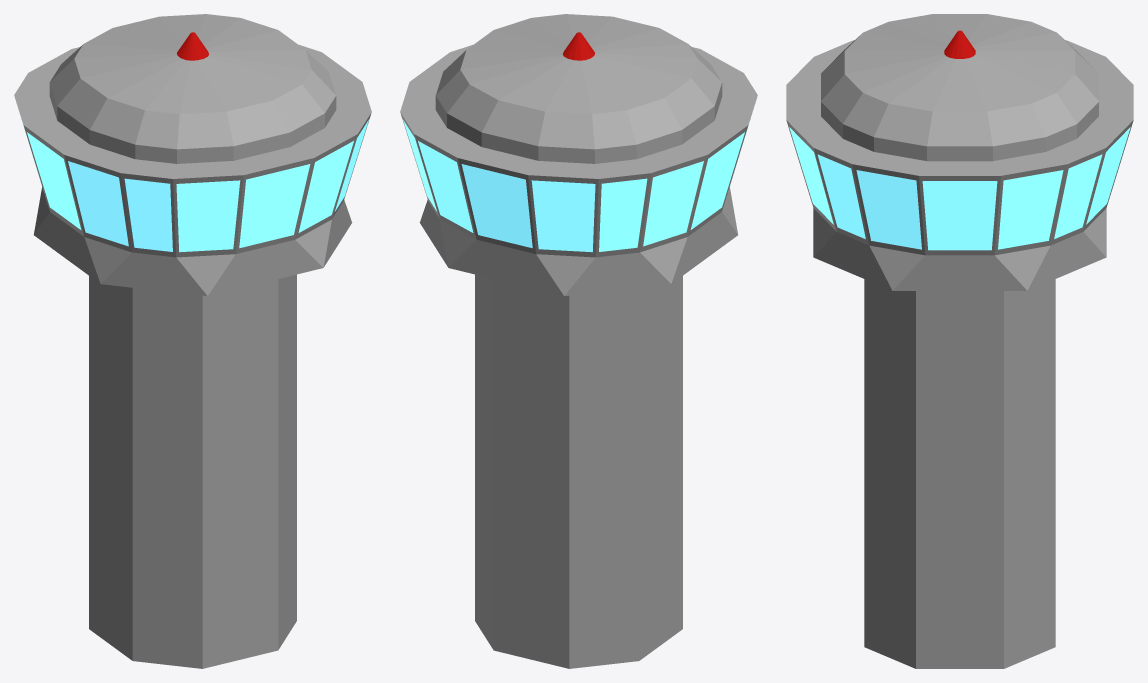
The model's file is tower.glb.
The picture shows the model from 3 angles, left to right: view 1: azimuth 30°, elevation 25°; view 2: azimuth 150°, elevation 25°; view 3: azimuth 270°, elevation 25°; orthographic projection.
Parts seen in each view (by area): view 1: Cube.001; view 2: Cube.001; view 3: Cube.001.
Boxes of the visible parts, x1=… form: Cube.001: x1=14, y1=14, x2=371, y2=668; Cube.001: x1=400, y1=14, x2=757, y2=668; Cube.001: x1=786, y1=14, x2=1133, y2=668.
Size of the model in its own units: 1.82 by 3.44 by 1.82.
Materials: 1 (1 with a texture image).
